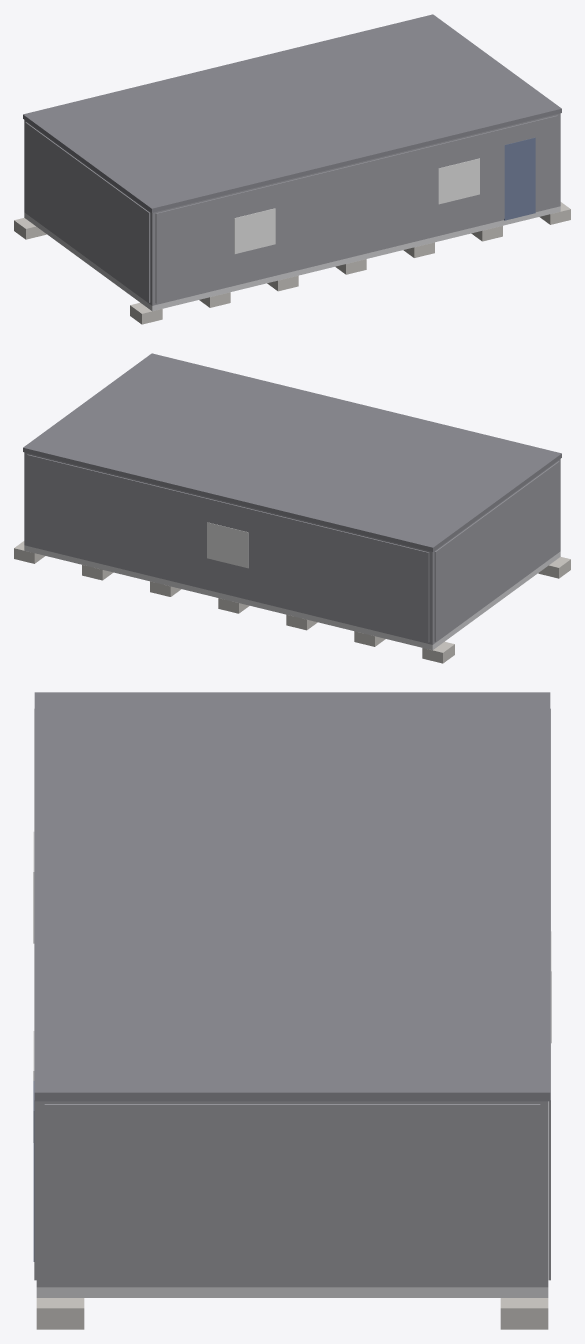
Rendered from Studio-40-Base-AncientWallGrey-LOD1.glb.
3 views of the same model, one above another, from view 1: azimuth 30°, elevation 25°; view 2: azimuth 150°, elevation 25°; view 3: azimuth 270°, elevation 25° (orthographic). The views are drawn at different scales.
Parts seen in each view (by area): view 1: RoofMain, ExteriorPanelsStandard, BaseFrame, WindowsStandard, ExteriorShell, FoundationBlocks, EntryDoor; view 2: RoofMain, ExteriorPanelsStandard, BaseFrame, ExteriorShell, FoundationBlocks, WindowsStandard; view 3: RoofMain, ExteriorPanelsStandard, ExteriorShell, BaseFrame, FoundationBlocks.
Part boxes in pixels (x1,y1,x2,y2): RoofMain: (23,14,561,212); ExteriorPanelsStandard: (25,115,557,303); BaseFrame: (24,206,560,311); WindowsStandard: (234,158,479,254); ExteriorShell: (24,113,560,305); FoundationBlocks: (14,202,570,324); EntryDoor: (504,137,535,220); RoofMain: (23,353,561,551); ExteriorPanelsStandard: (27,454,559,642); BaseFrame: (24,545,560,650); ExteriorShell: (24,452,560,644); FoundationBlocks: (14,541,570,663); WindowsStandard: (207,522,248,568); RoofMain: (34,692,550,1101); ExteriorPanelsStandard: (34,708,550,1284); ExteriorShell: (36,1101,548,1287); BaseFrame: (36,1287,548,1297); FoundationBlocks: (36,1298,548,1329).
Size of the model in its own units: 12.49 by 3.17 by 6.53.
